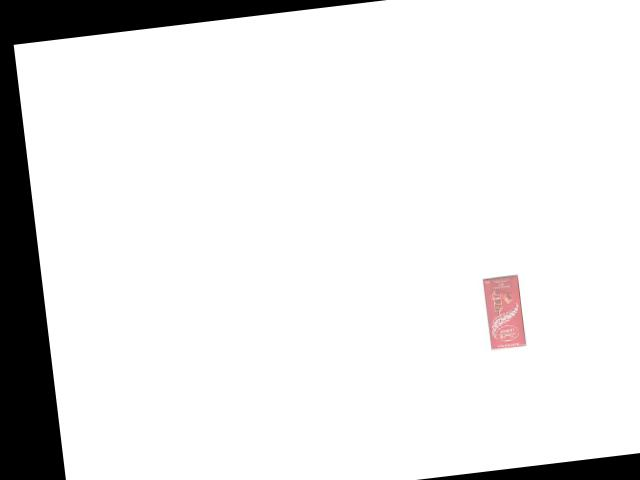chocolate: (479, 269, 527, 352)
